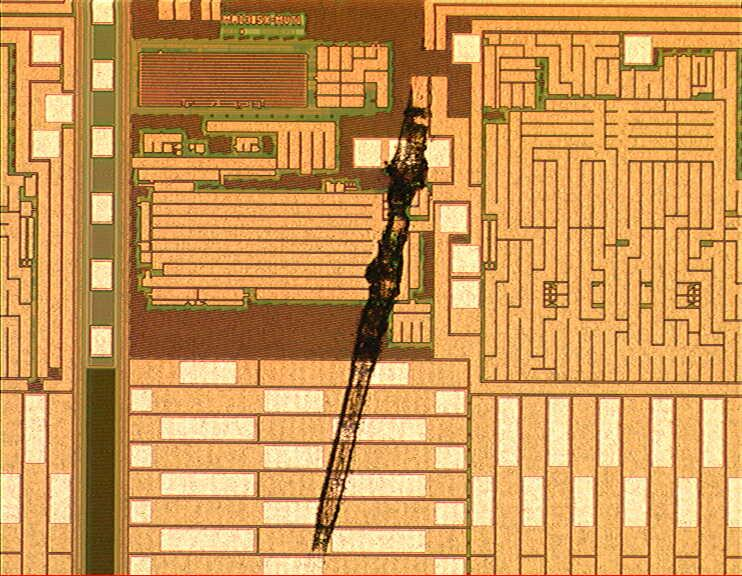SCRATCH: (304, 72, 446, 561)
